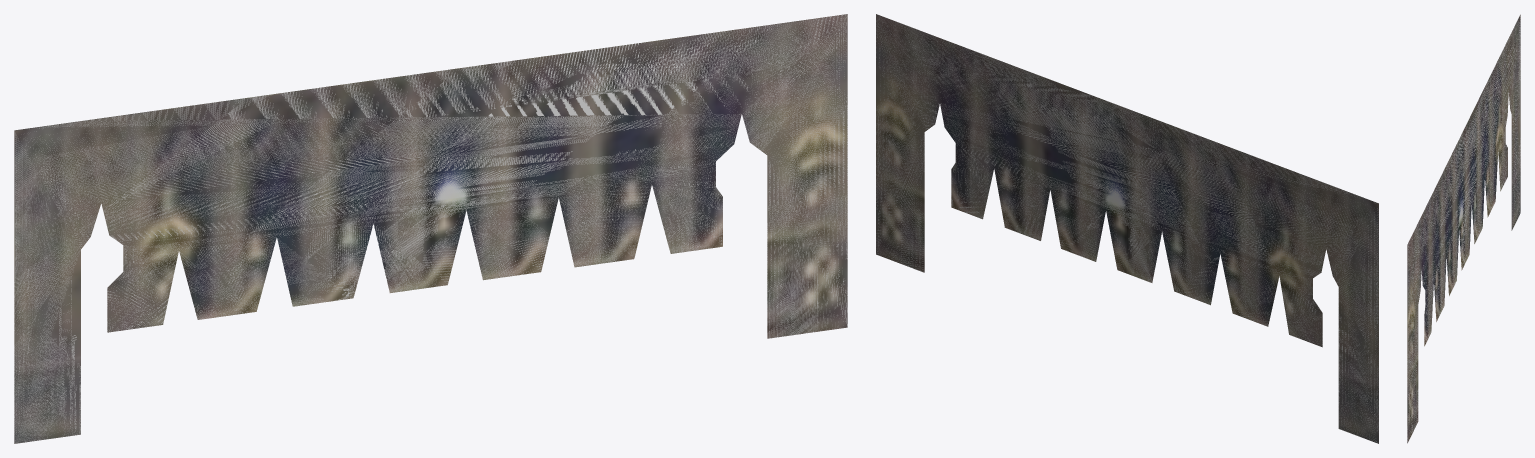
Rendered from 大本钟177.dae.
The picture shows the model from 3 angles, left to right: view 1: azimuth 30°, elevation 25°; view 2: azimuth 150°, elevation 25°; view 3: azimuth 270°, elevation 25°; orthographic projection. The views are drawn at different scales.
Visible parts, largest first — view 1: SketchUp; view 2: SketchUp; view 3: SketchUp.
Boxes of the visible parts, x1,y1,x2,y2 form: SketchUp: [14, 14, 847, 443]; SketchUp: [876, 14, 1378, 443]; SketchUp: [1407, 14, 1520, 443].
Bounding box in the file's own units: 417 × 86.52 × 168.
Materials: 2 (1 with a texture image).
